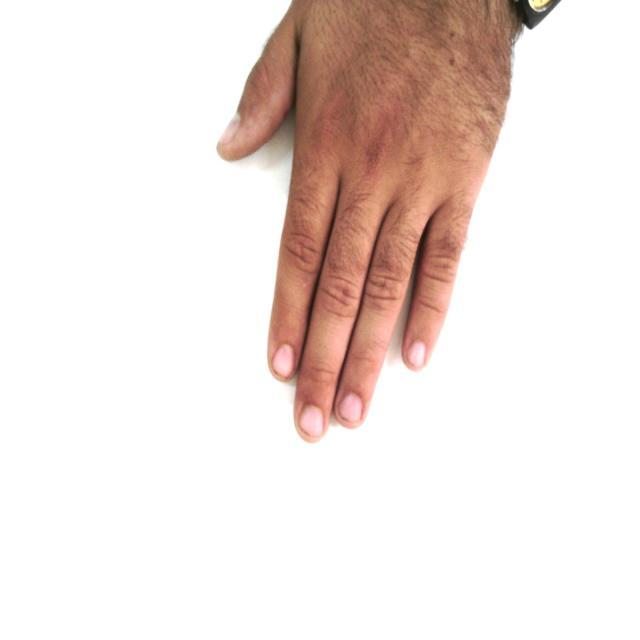Fingernail: (300, 404, 324, 436), (273, 343, 295, 377), (339, 392, 362, 421), (219, 116, 239, 145), (408, 340, 425, 366)
